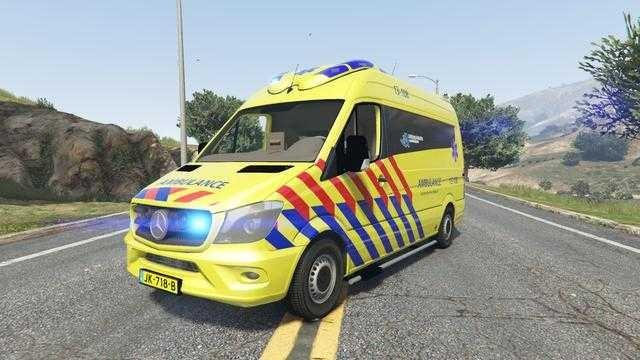car: (123, 58, 467, 322)
